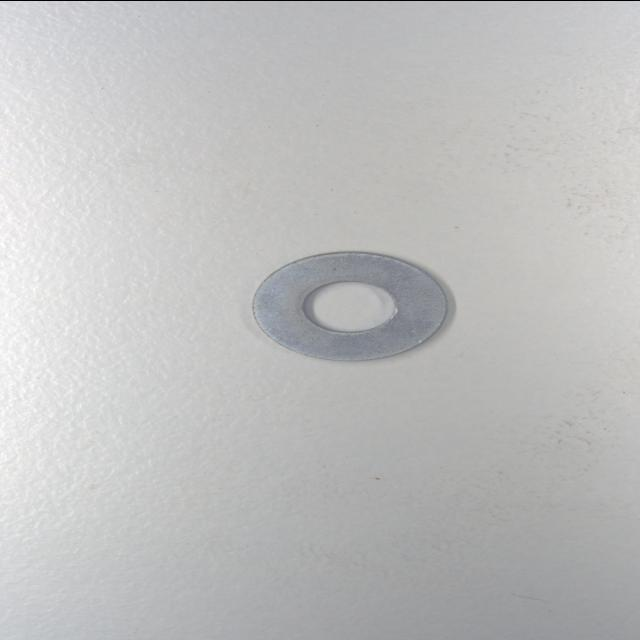washer: (247, 250, 449, 362)
